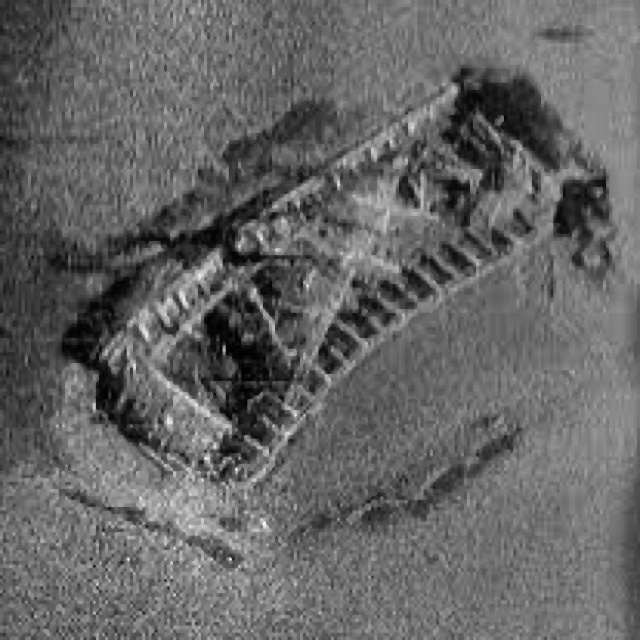Ship: (81, 54, 603, 494)
